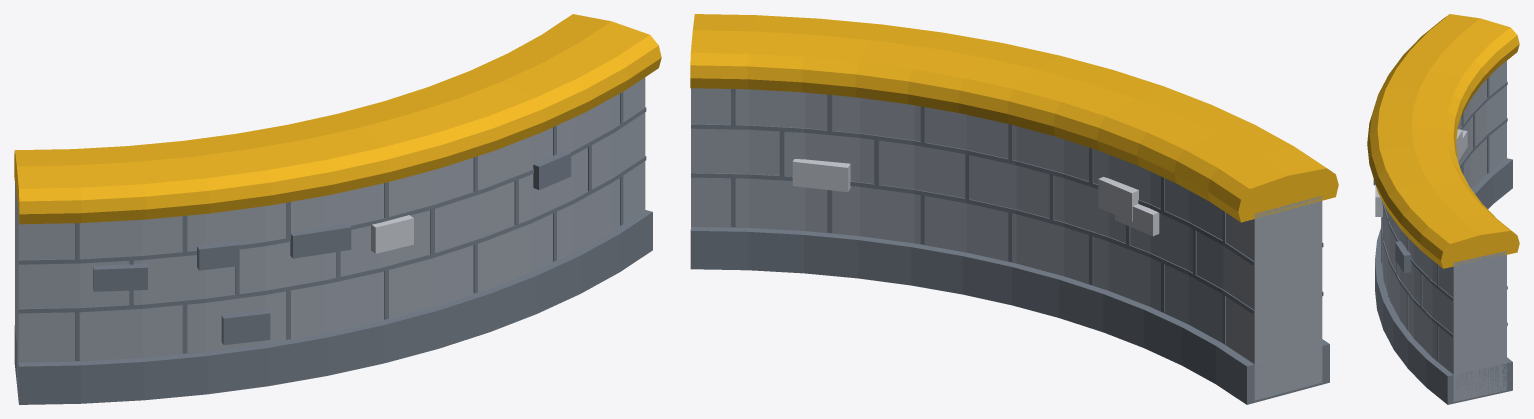
The model's file is castelo_mureta_curva.glb.
3 views of the same model, side by side, from view 1: azimuth 30°, elevation 25°; view 2: azimuth 150°, elevation 25°; view 3: azimuth 270°, elevation 25° (orthographic). The views are drawn at different scales.
Parts seen in each view (by area): view 1: castelo_mureta_curva; view 2: castelo_mureta_curva; view 3: castelo_mureta_curva.
Boxes of the visible parts, box(x1,y1,x2,y2) form: castelo_mureta_curva: box(14, 14, 661, 404); castelo_mureta_curva: box(690, 14, 1338, 404); castelo_mureta_curva: box(1367, 14, 1519, 404).
Bounding box in the file's own units: 6.48 × 2.1 × 1.79.
Materials: 1 (1 with a texture image).
